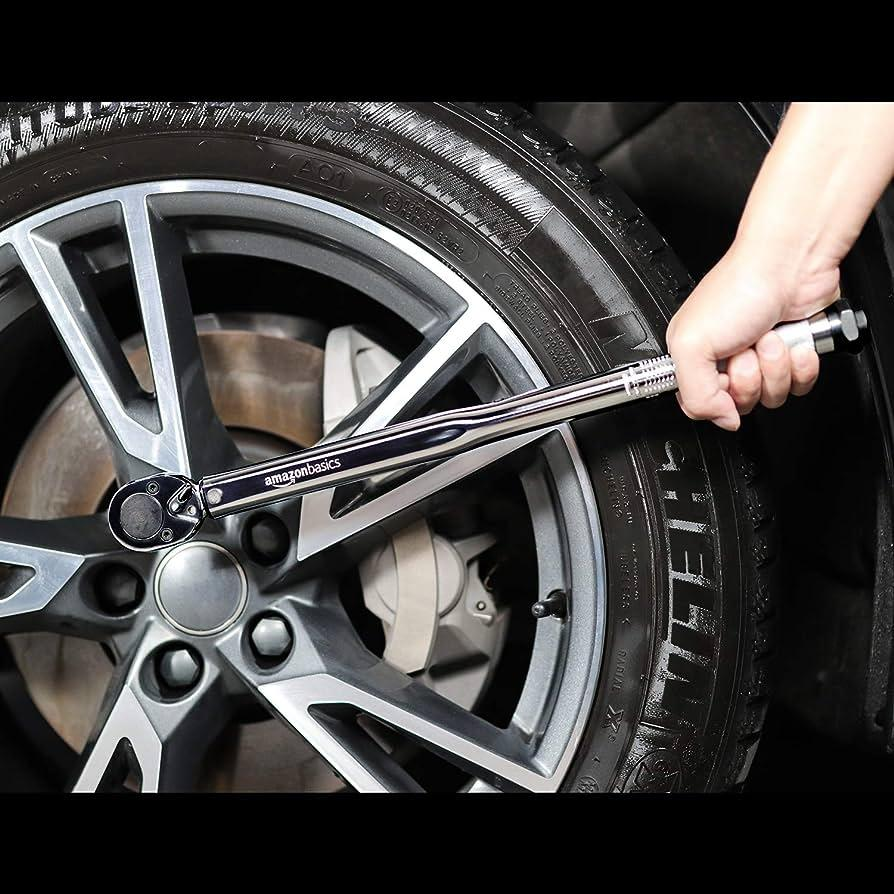Tool: (106, 470, 211, 553)
